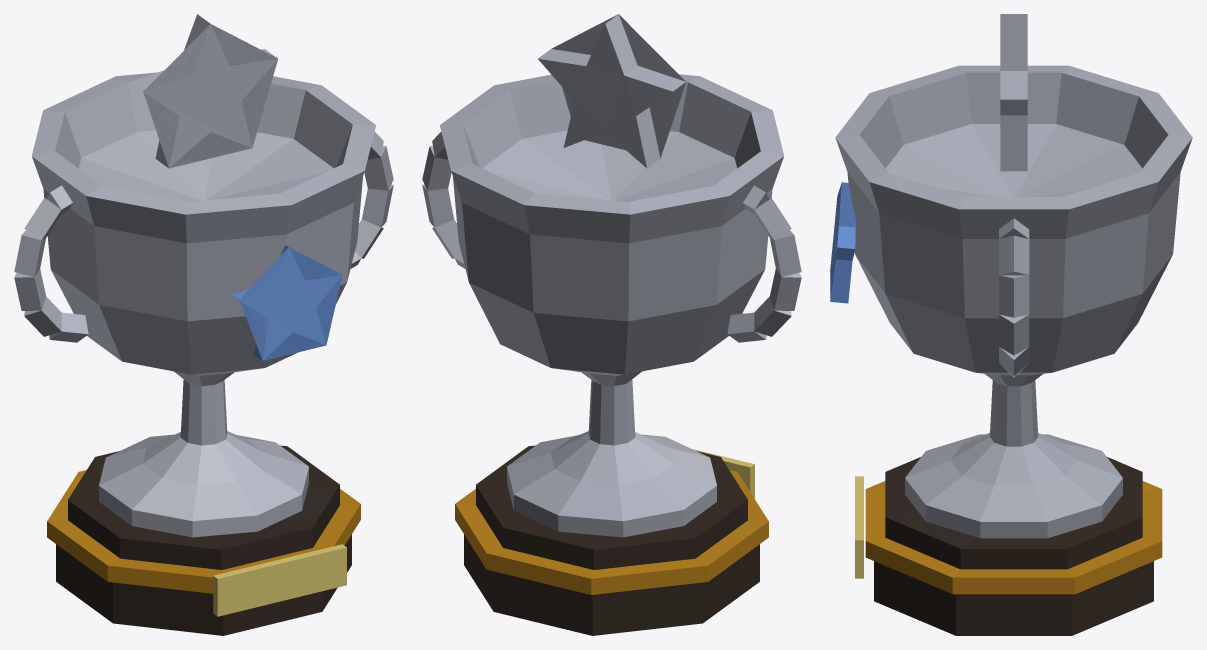
File: Trophy_Silver.fbx
3 renders of one model, left to right at view 1: azimuth 30°, elevation 25°; view 2: azimuth 150°, elevation 25°; view 3: azimuth 270°, elevation 25°, orthographic.
Parts seen in each view (by area): view 1: Body; view 2: Body; view 3: Body.
Boxes of the visible parts, <box> form: Body: <box>14,14,393,635</box>; Body: <box>422,14,801,635</box>; Body: <box>830,14,1192,635</box>.
Size of the model in its own units: 2.94 by 4.1 by 2.39.
